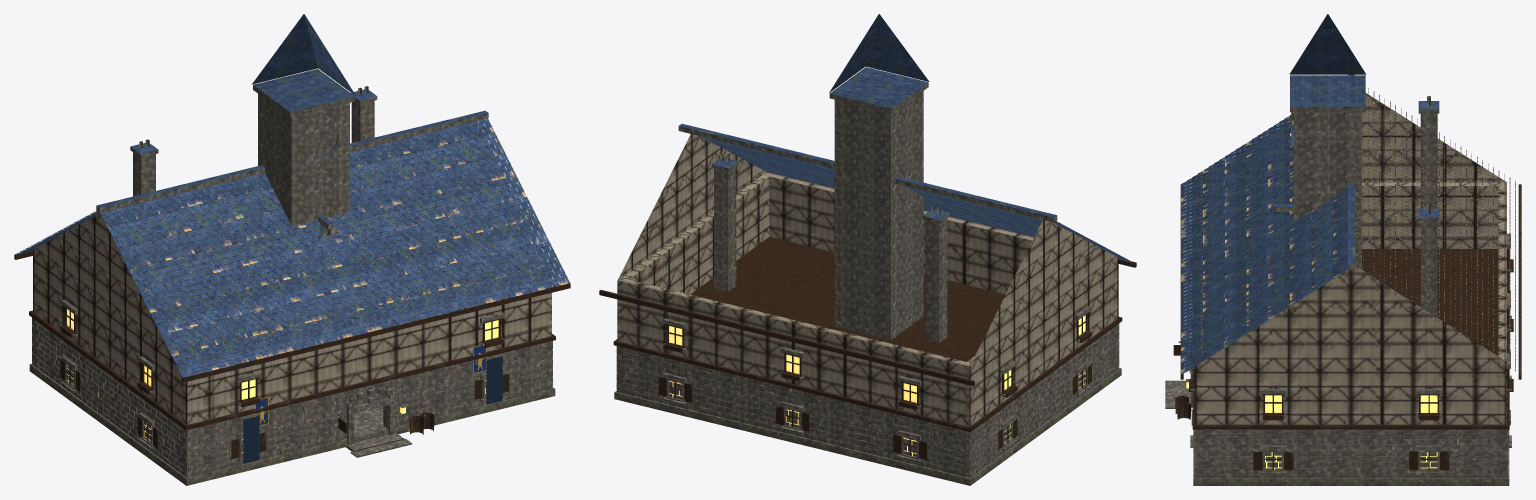
File: bld_guildhall_card.glb
3 views of the same model, side by side, from view 1: azimuth 30°, elevation 25°; view 2: azimuth 150°, elevation 25°; view 3: azimuth 270°, elevation 25° (orthographic). The views are drawn at different scales.
Visible parts, largest first — view 1: guildhall_card; view 2: guildhall_card; view 3: guildhall_card.
Part boxes in pixels (x1=…): guildhall_card: x1=14, y1=14, x2=570, y2=485; guildhall_card: x1=599, y1=14, x2=1136, y2=485; guildhall_card: x1=1165, y1=14, x2=1521, y2=485.
Bounding box in the file's own units: 40.8 × 37.87 × 32.1.
1 material, 1 textured.
